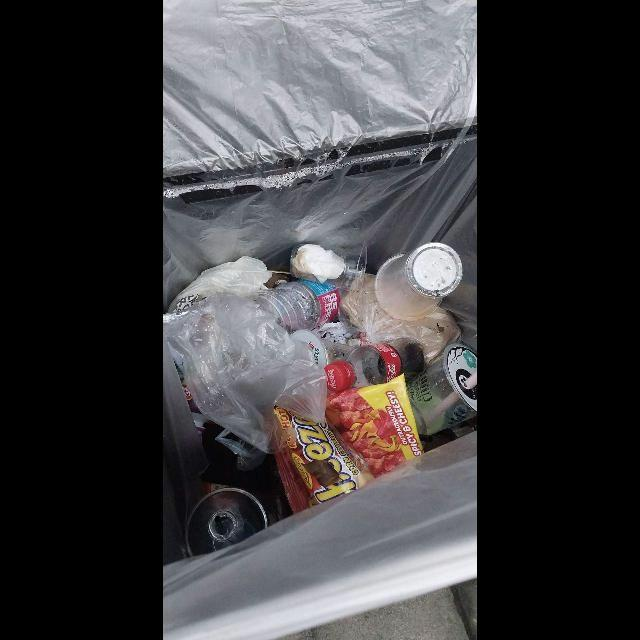food_wrapper: (274, 374, 424, 515)
paper: (291, 244, 346, 283)
plastic_bag: (163, 293, 329, 445), (168, 256, 273, 313)
plastic_bottle: (324, 338, 424, 392), (250, 280, 344, 334)
plastic_container: (375, 242, 463, 321), (407, 343, 477, 436), (290, 241, 367, 292)
